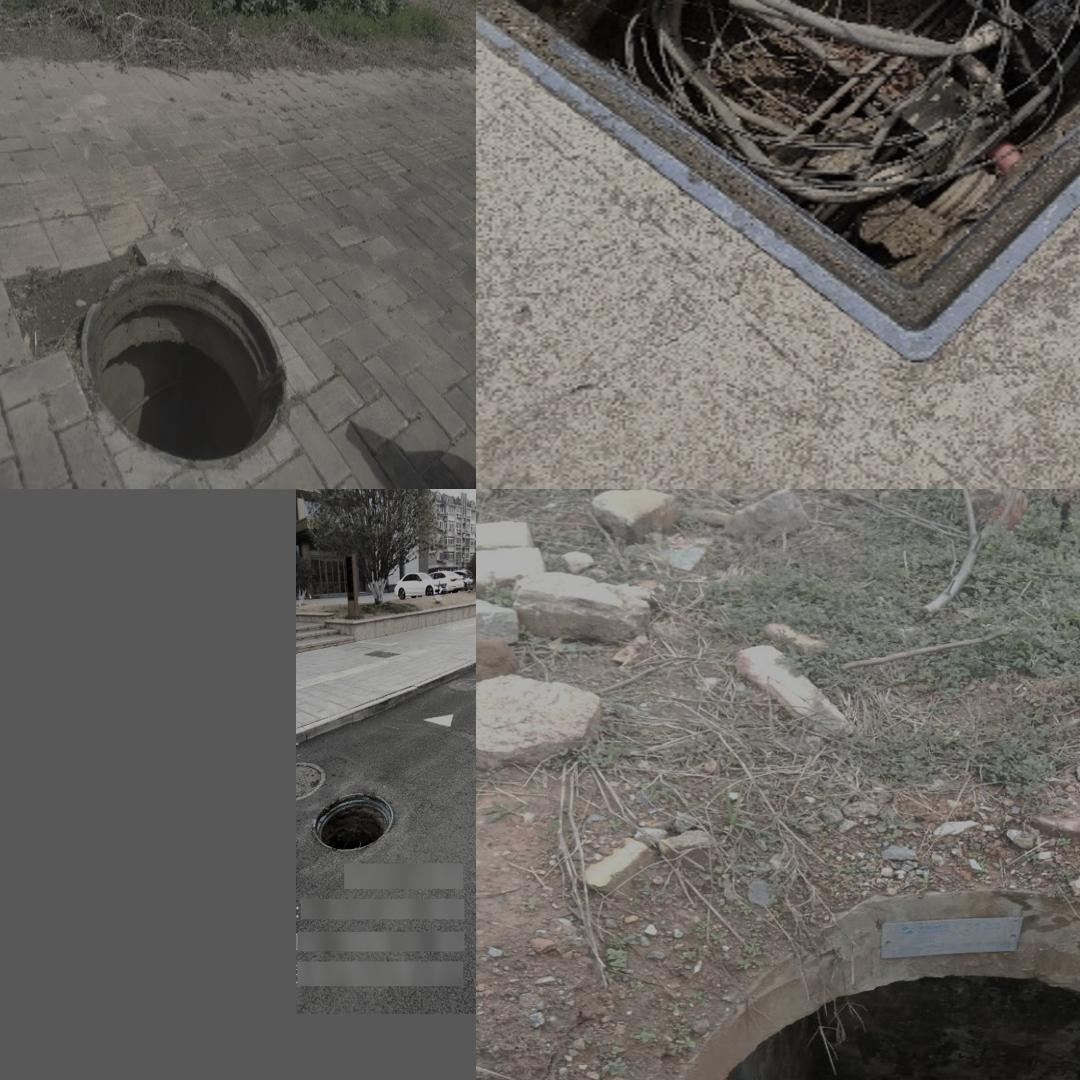lose: (478, 0, 1080, 362), (51, 232, 311, 482), (674, 971, 1080, 1080), (312, 792, 394, 852)
